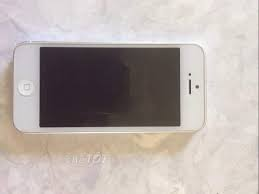iphone: (11, 38, 210, 137)
iphone5: (10, 37, 209, 136)
